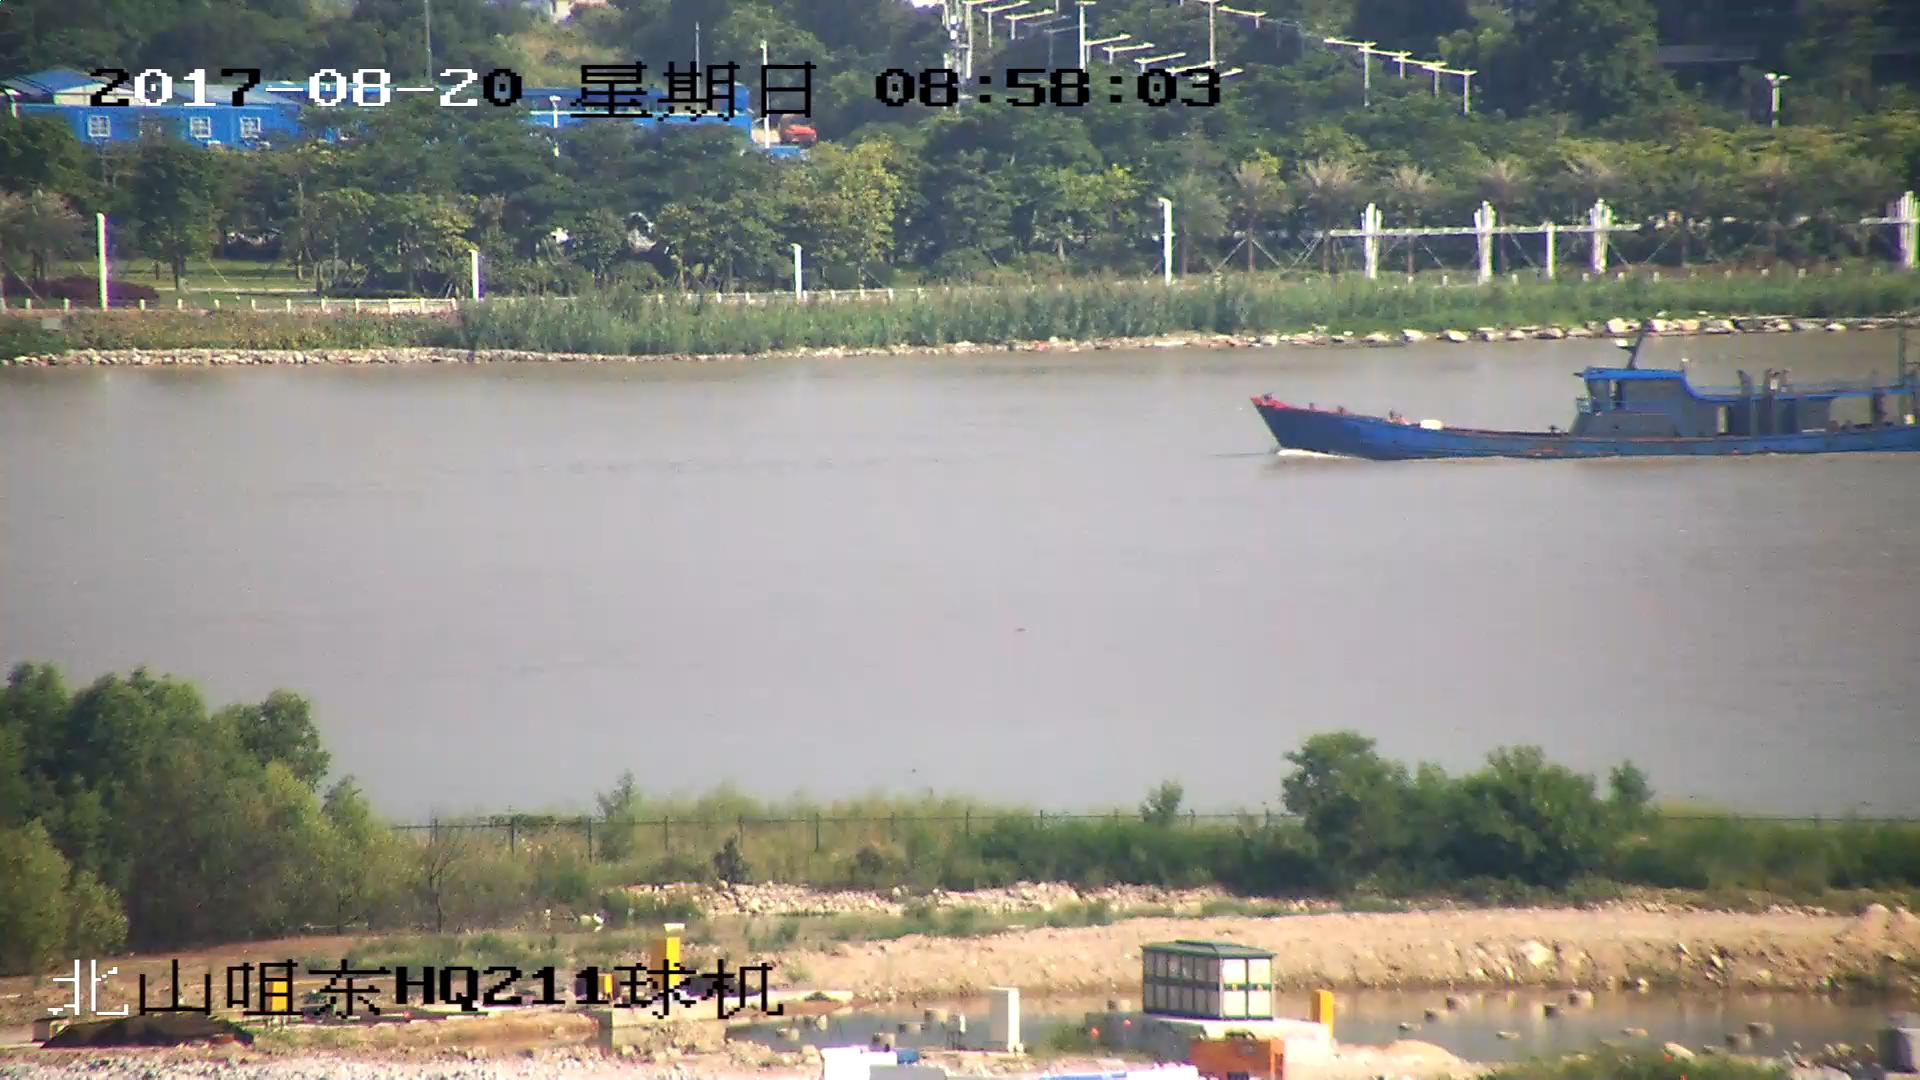fishing boat: (1254, 336, 1920, 465)
